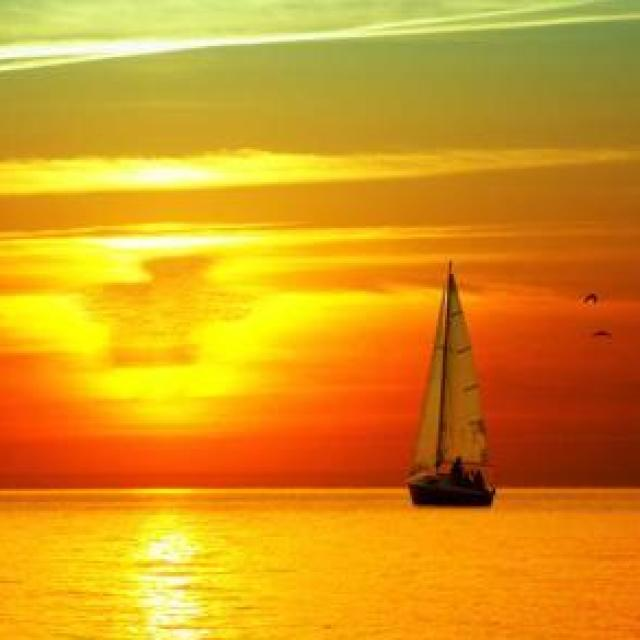sailboat: (400, 258, 505, 506)
